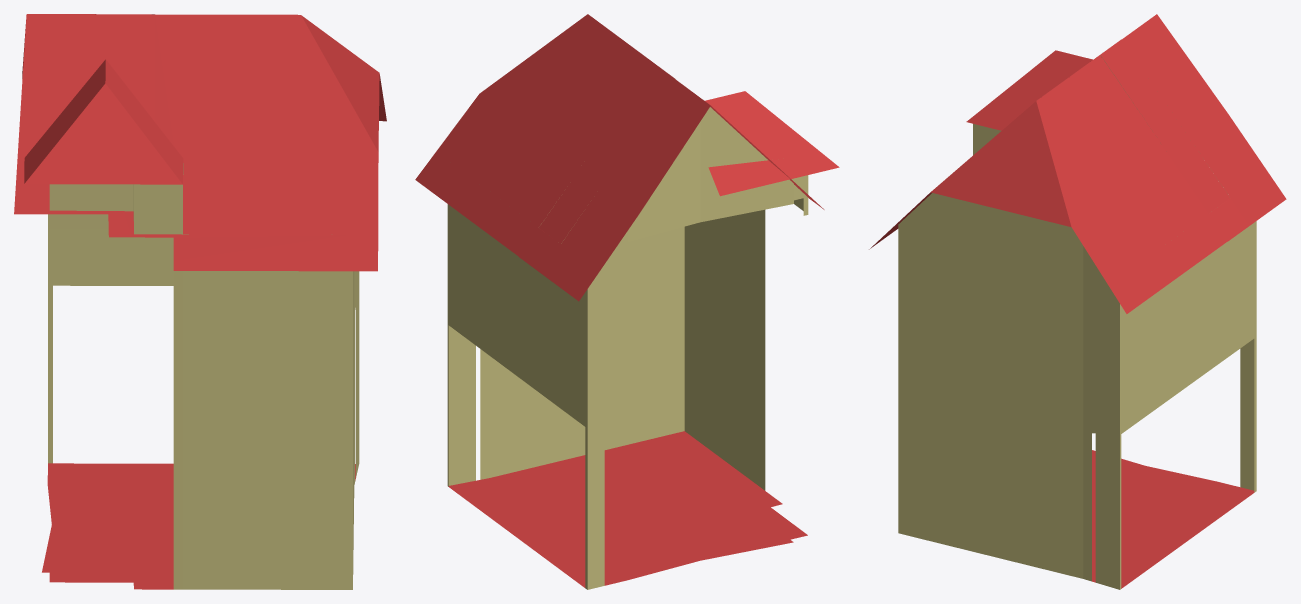
3 renders of one model, left to right at view 1: azimuth 30°, elevation 25°; view 2: azimuth 150°, elevation 25°; view 3: azimuth 270°, elevation 25°, orthographic. The views are drawn at different scales.
Parts seen in each view (by area): view 1: group_9, group_7, group_6, group_11, group_3, group_5, group_13, group_10, group_4, group_8, group_12; view 2: group_9, group_7, group_5, group_10, group_3, group_6, group_11, group_4, group_12; view 3: group_9, group_7, group_3, group_5, group_6, group_10, group_11, group_4.
Boxes of the visible parts, x1,y1,x2,y2 form: group_9: (156, 174, 359, 589); group_7: (106, 14, 386, 271); group_6: (42, 463, 156, 582); group_11: (24, 59, 183, 184); group_3: (14, 14, 124, 214); group_5: (48, 214, 156, 463); group_13: (49, 163, 183, 234); group_10: (124, 463, 355, 589); group_4: (14, 14, 122, 214); group_8: (108, 112, 376, 237); group_12: (24, 137, 182, 184); group_9: (447, 79, 765, 490); group_7: (415, 14, 674, 272); group_5: (538, 107, 808, 589); group_10: (448, 431, 782, 553); group_3: (519, 63, 824, 301); group_6: (539, 508, 807, 587); group_11: (705, 91, 839, 196); group_4: (583, 98, 821, 290); group_12: (711, 157, 838, 195); group_9: (898, 180, 1227, 589); group_7: (869, 39, 1249, 313); group_3: (1101, 14, 1286, 240); group_5: (1100, 55, 1256, 492); group_6: (1092, 450, 1254, 525); group_10: (1092, 496, 1208, 588); group_11: (966, 50, 1092, 130); group_4: (1148, 17, 1276, 190).
Size of the model in its own units: 14.22 by 14.27 by 16.71.
